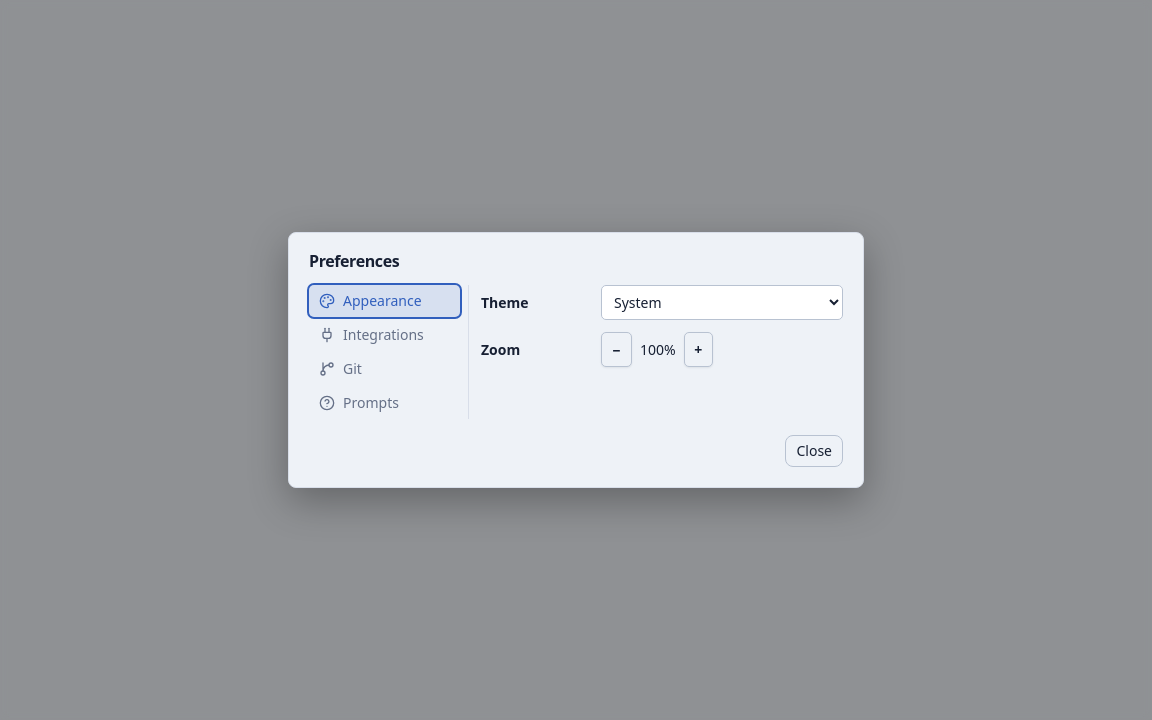
PreferencesDialog › shows one category at a time
Expected: the dropdown labelled "Theme" is shown, [601,285,843,320]
Expected: the field labelled "Default merge" is not shown
Click the tab "Git": click(384, 369) [309,353,460,385]
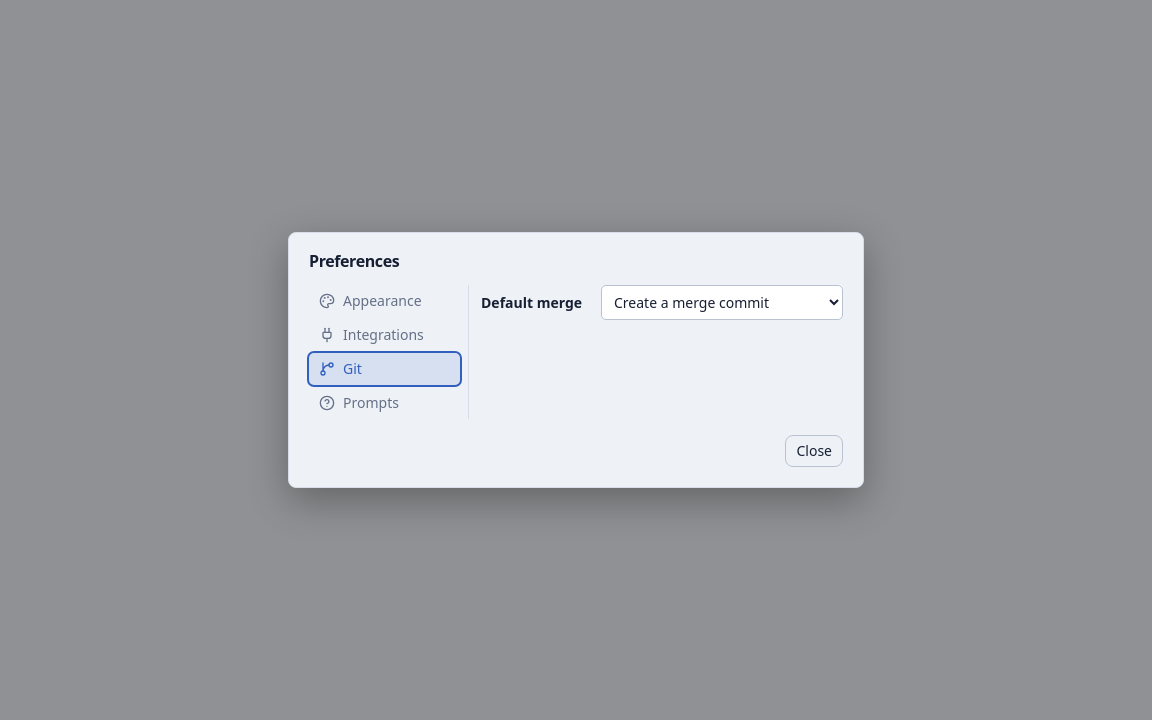
Expected: the dropdown labelled "Default merge" is shown, [601,285,843,320]
Expected: the label labelled "Theme" is gone
